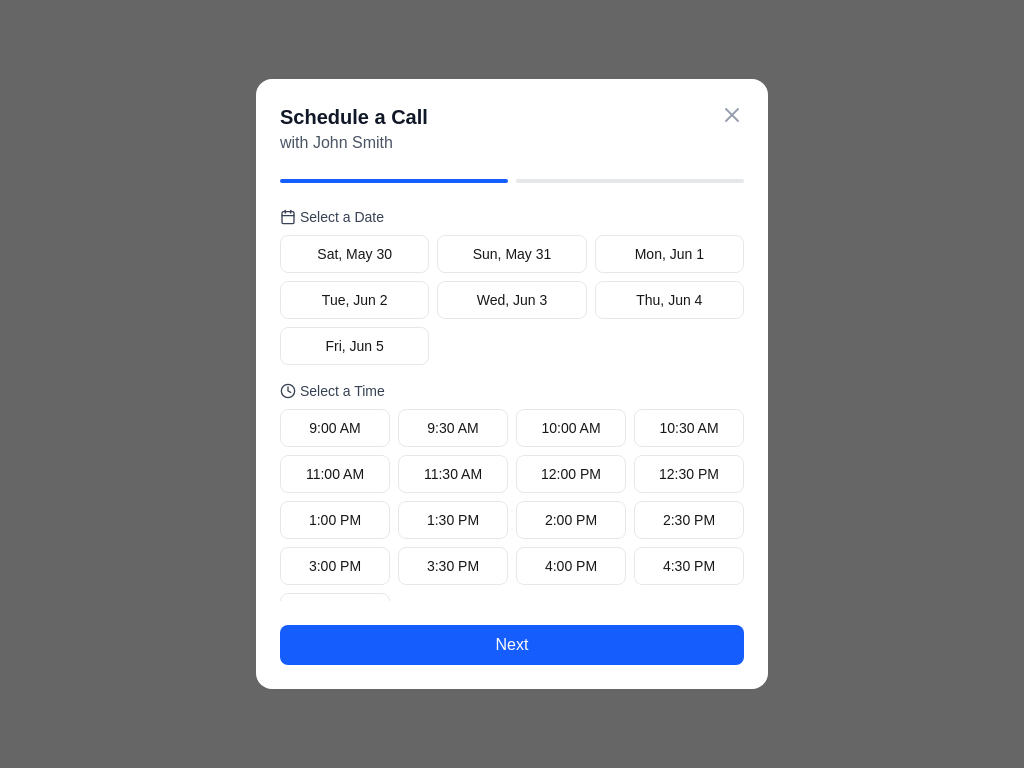
Test: ScheduleCallModal › Info step interactions › can go back to time step
The width and height of the screenshot is (1024, 768).
Click the button "Sat, May 30" at (355,254), box x1=280 y1=235 x2=429 y2=273
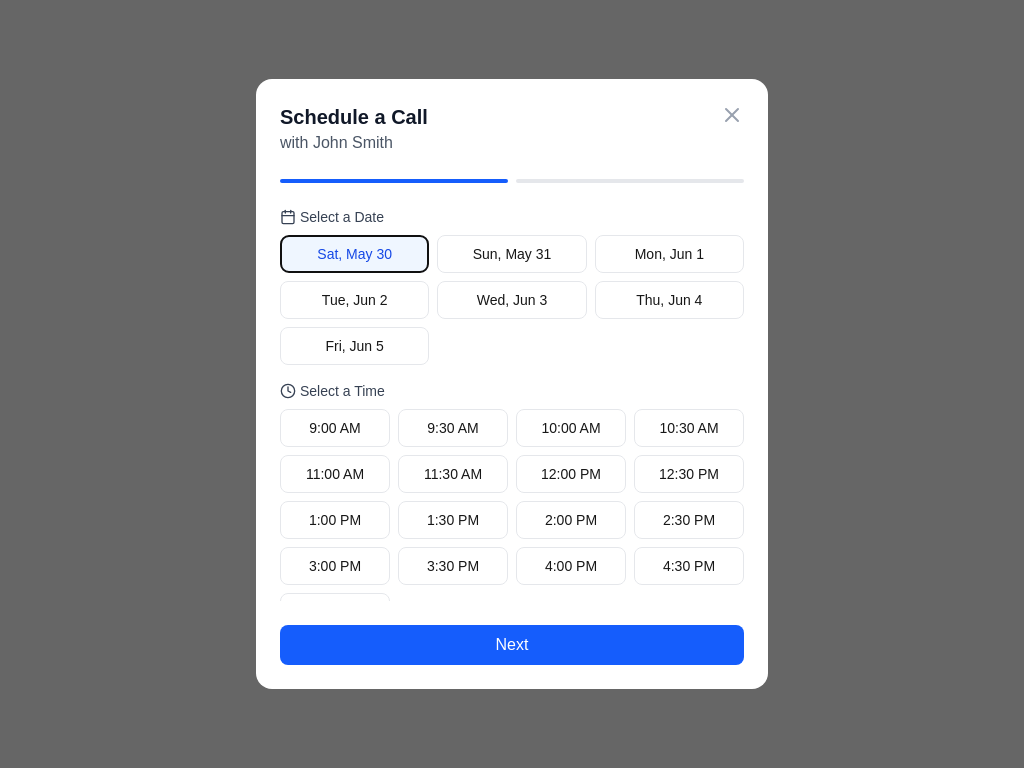
Click the button "10:00 AM" at (571,428), box x1=516 y1=409 x2=626 y2=447
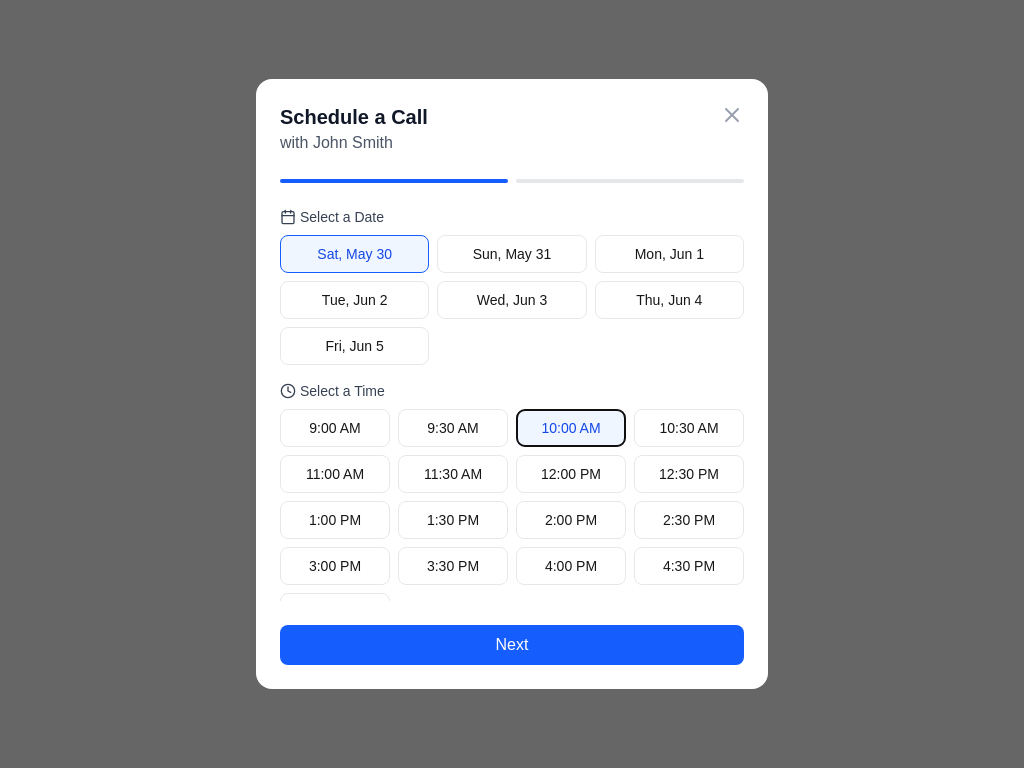
Click the button "Next" at (512,645), box x1=280 y1=625 x2=744 y2=665
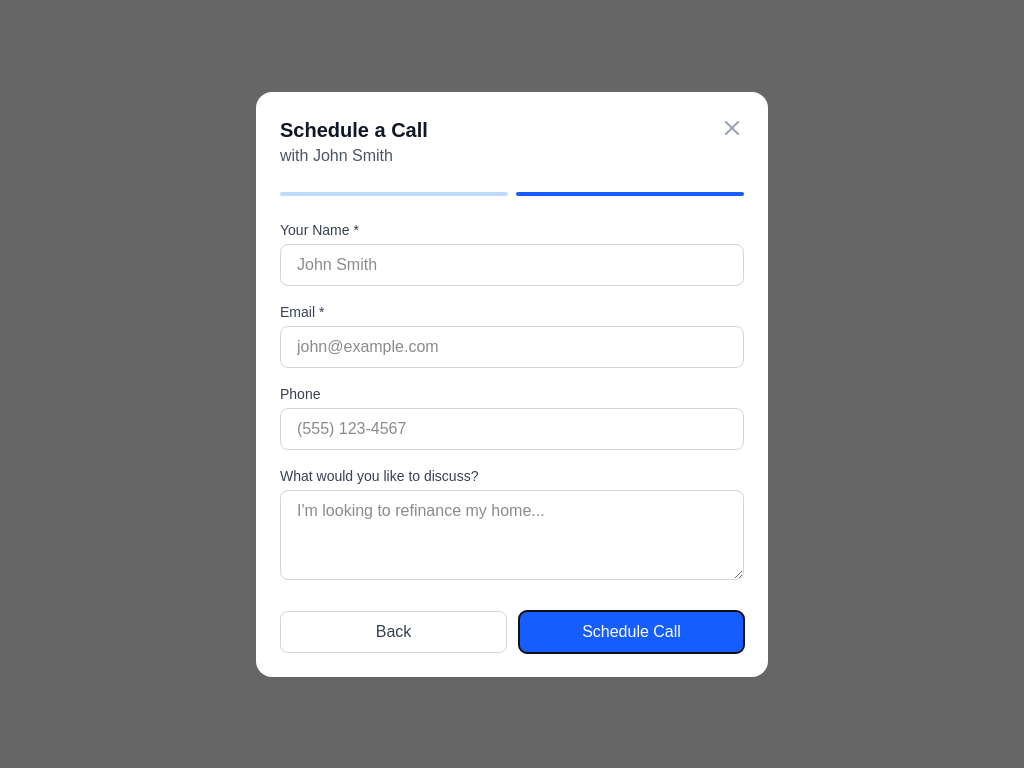
Click the button "Back" at (394,632), box x1=280 y1=610 x2=507 y2=652
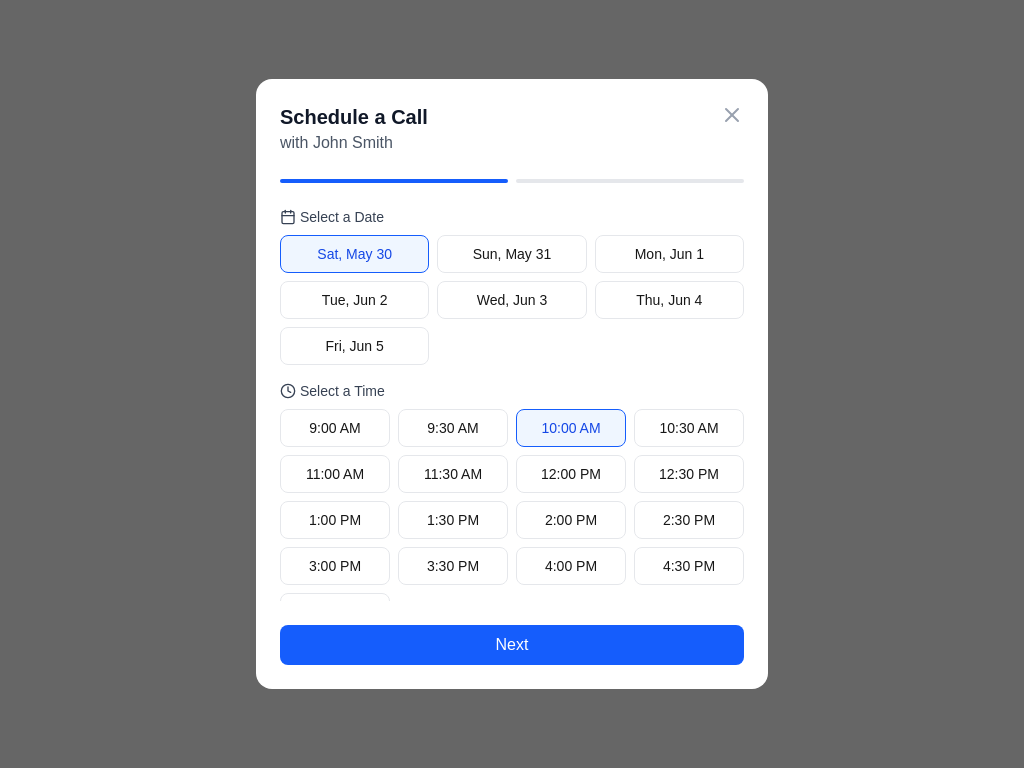
expect the text "Select a Date" is shown: met, box x1=280 y1=209 x2=384 y2=225
